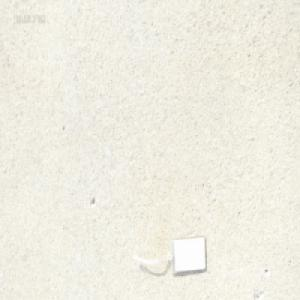LuggageTag: (128, 233, 205, 276)
